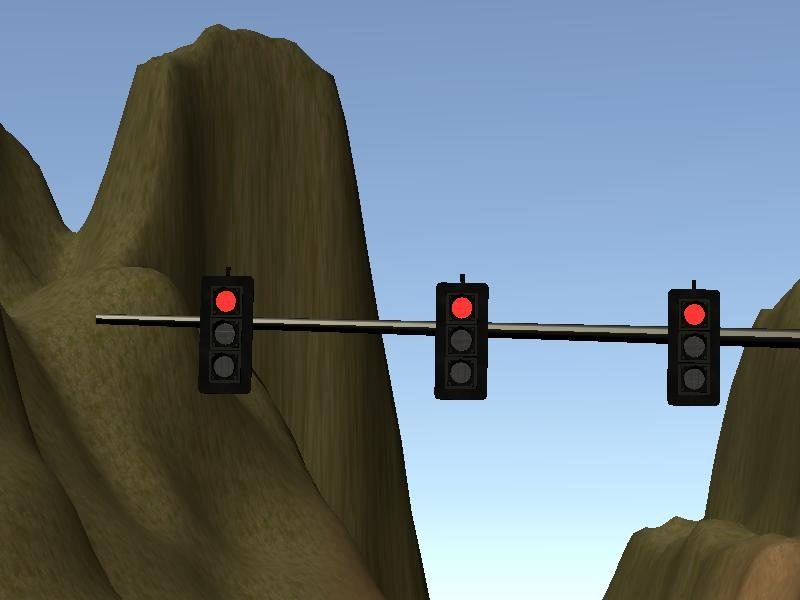red: (662, 274, 728, 412), (429, 272, 492, 405), (196, 270, 257, 398)
